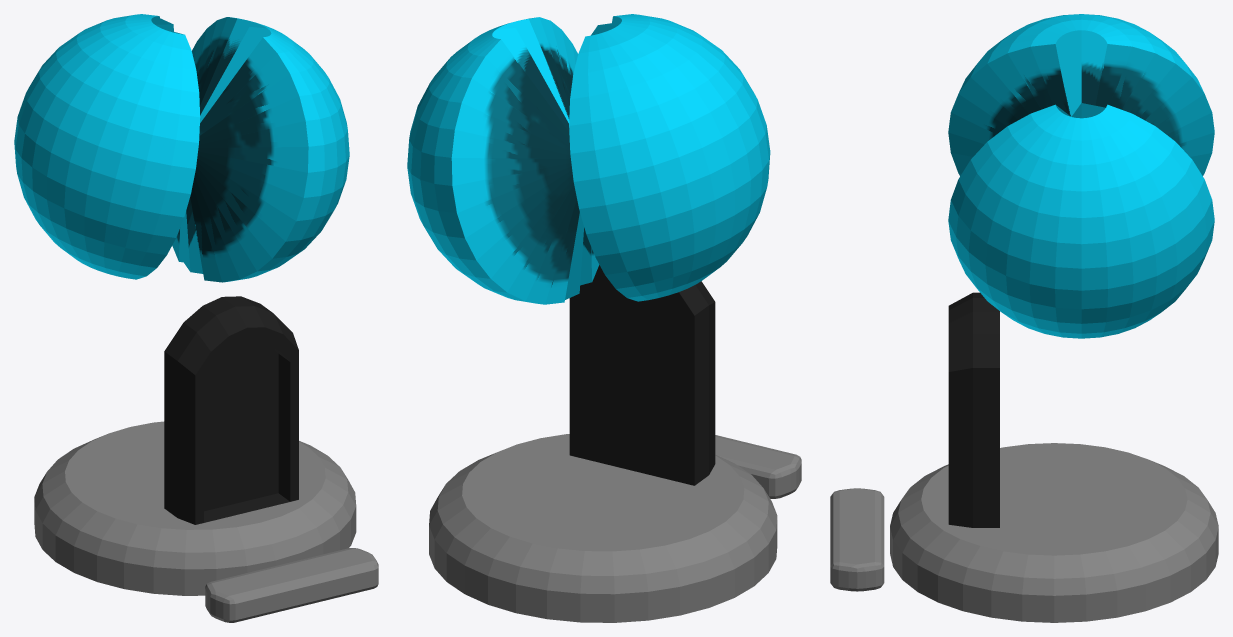
Rendered from ShrineModel02.1.fbx.
3 renders of one model, left to right at view 1: azimuth 30°, elevation 25°; view 2: azimuth 150°, elevation 25°; view 3: azimuth 270°, elevation 25°, orthographic. The views are drawn at different scales.
Visible parts, largest first — view 1: Sphere, Cylinder, Cube.003, Cube.002; view 2: Sphere, Cylinder, Cube.003, Cube.002; view 3: Sphere, Cylinder, Cube.003, Cube.002.
Part boxes in pixels (x1,y1,x2,y2): Sphere: [14, 14, 349, 282]; Cylinder: [34, 421, 356, 595]; Cube.003: [164, 296, 298, 524]; Cube.002: [205, 548, 378, 622]; Sphere: [407, 14, 770, 304]; Cylinder: [429, 434, 777, 622]; Cube.003: [569, 265, 715, 485]; Cube.002: [715, 435, 801, 498]; Sphere: [948, 14, 1214, 338]; Cylinder: [890, 443, 1218, 622]; Cube.003: [948, 292, 999, 527]; Cube.002: [830, 488, 884, 591].
Size of the model in its own units: 260 by 414 by 286.
4 materials, 1 textured.
